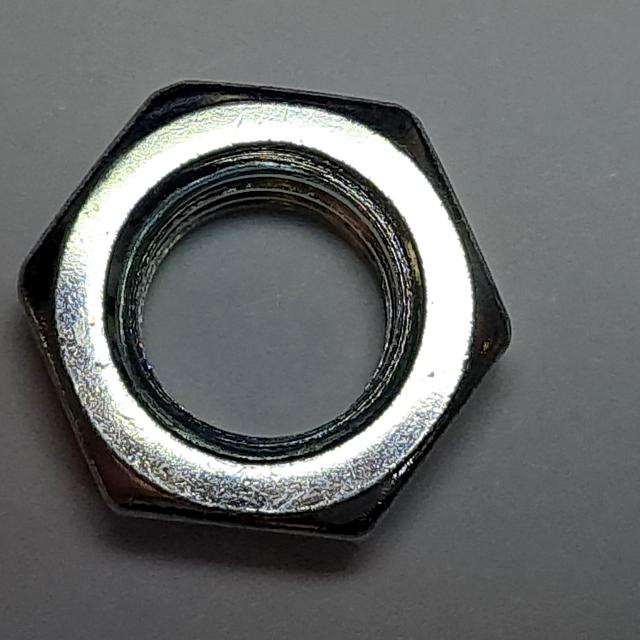Excellent: (8, 55, 530, 562)
